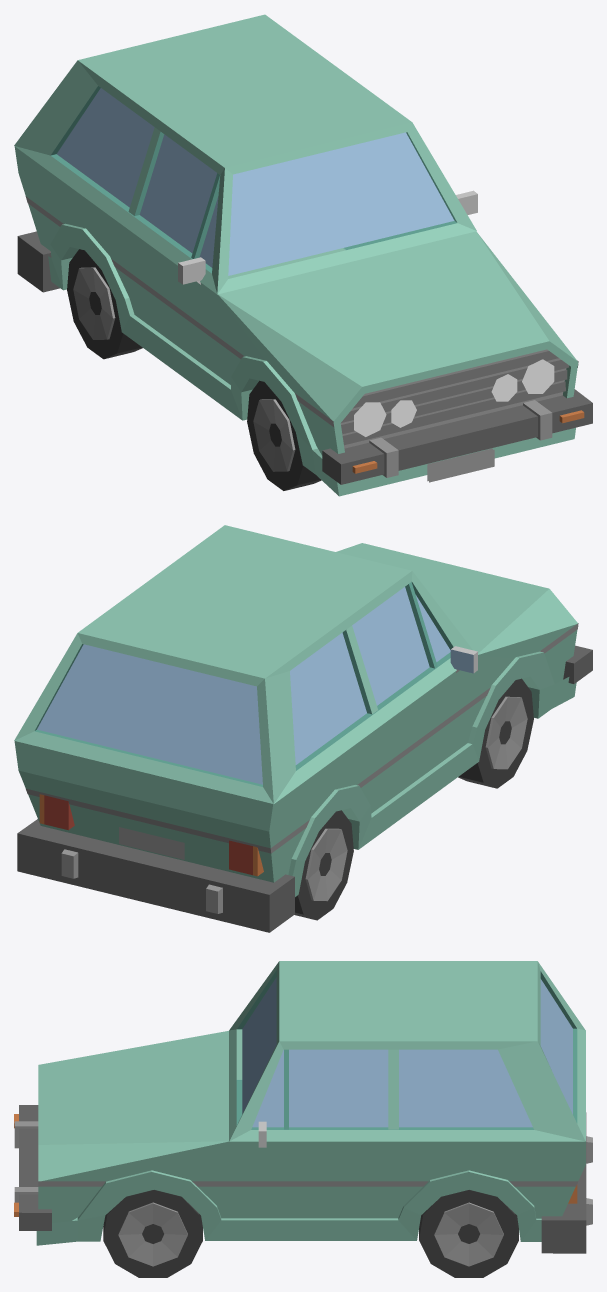
Rendered from transport_old_005.fbx.
3 views of the same model, one above another, from view 1: azimuth 30°, elevation 25°; view 2: azimuth 150°, elevation 25°; view 3: azimuth 270°, elevation 25° (orthographic). The views are drawn at different scales.
Visible parts, largest first — view 1: transport_old_005; view 2: transport_old_005; view 3: transport_old_005.
Part boxes in pixels (x1,y1,x2,y2): transport_old_005: [14, 14, 592, 496]; transport_old_005: [14, 525, 592, 932]; transport_old_005: [14, 961, 592, 1277].
Size of the model in its own units: 148 by 124 by 286.
